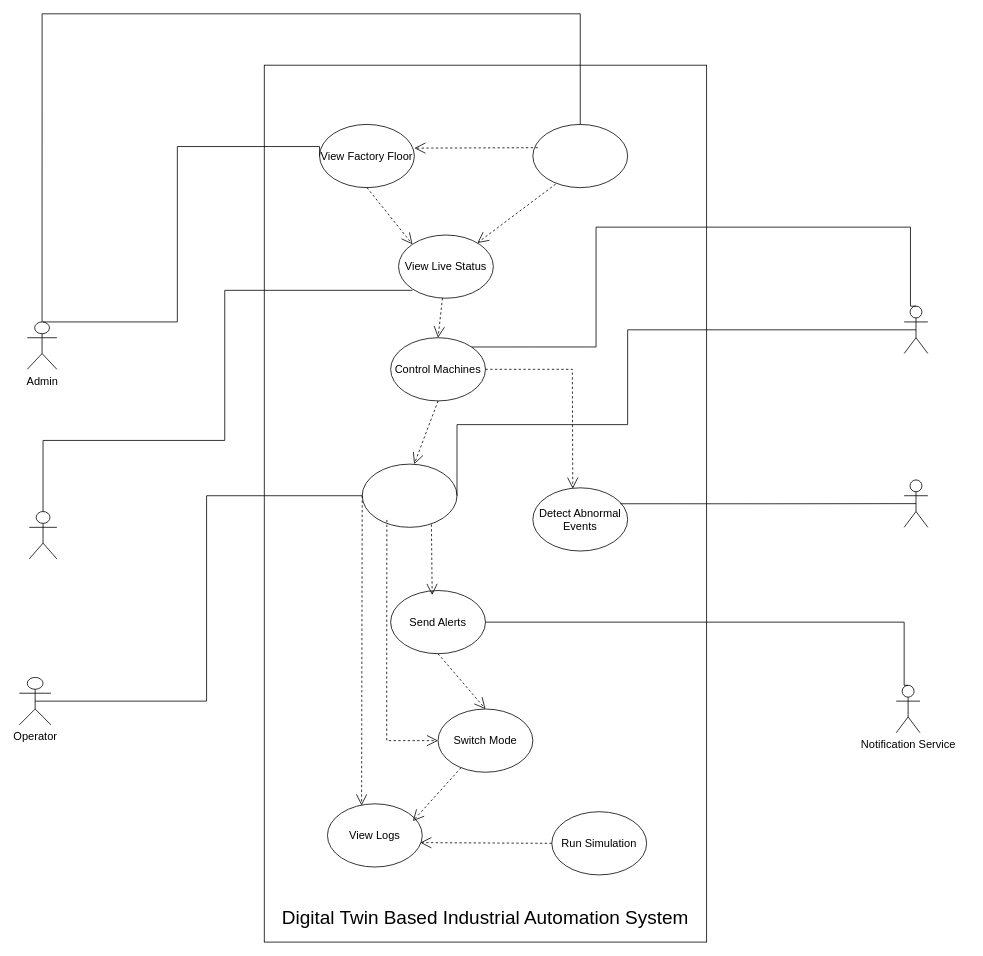
Image size: 983x956. Some labels were removed from this diagram. Here are the shapes that lost their labels. From the top down, the centre of each, then its label:
At (580,156): "Login".
At (915,329): "Machine/PLC System".
At (409,495): "Execute Automation Rules".
At (915,503): "Sensor Network".
At (42,535): "Supervisor".
